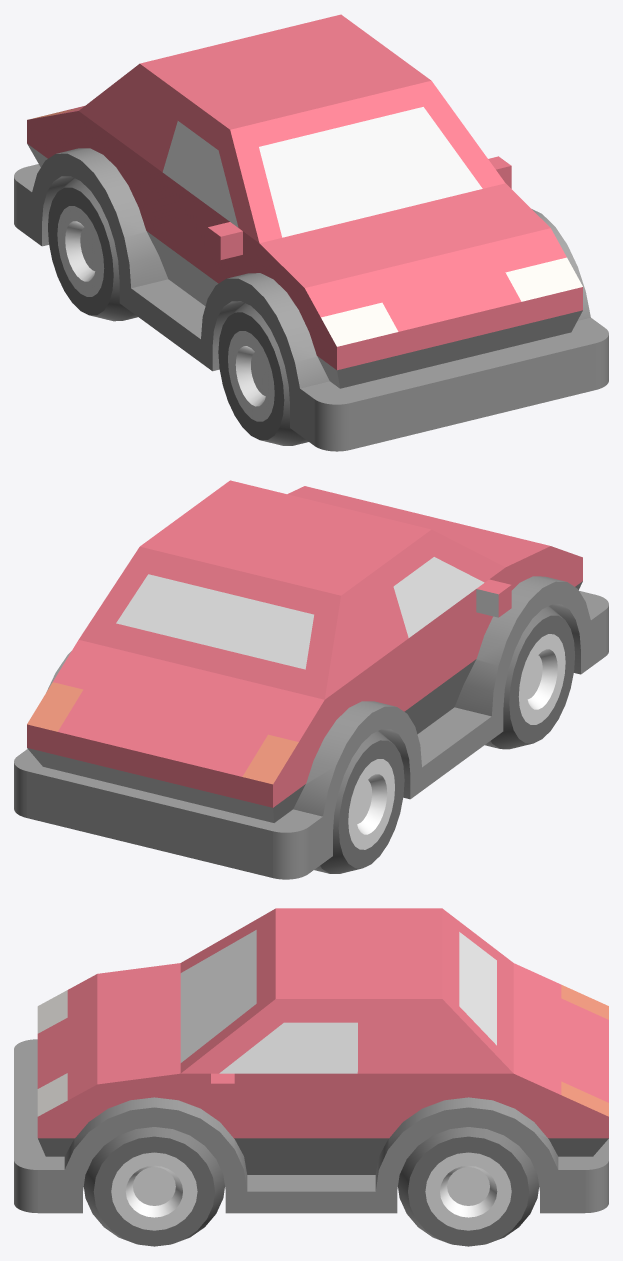
The model's file is sedan-sport.gltf.
3 views of the same model, one above another, from view 1: azimuth 30°, elevation 25°; view 2: azimuth 150°, elevation 25°; view 3: azimuth 270°, elevation 25° (orthographic). The views are drawn at different scales.
Visible parts, largest first — view 1: sedanSports; view 2: sedanSports; view 3: sedanSports.
Boxes of the visible parts, left/top/right/bottom form: sedanSports: left=14, top=14, right=608, bottom=451; sedanSports: left=14, top=480, right=608, bottom=879; sedanSports: left=14, top=908, right=608, bottom=1246.
Size of the model in its own units: 0.975 by 0.825 by 1.88.
